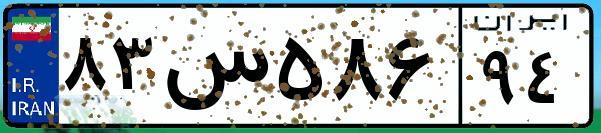3: (110, 28, 158, 98)
4: (525, 38, 570, 115)
5: (270, 28, 330, 110)
6: (385, 28, 445, 110)
8: (330, 28, 385, 110), (57, 26, 110, 100)
9: (475, 38, 525, 113)
س: (158, 20, 270, 120)
